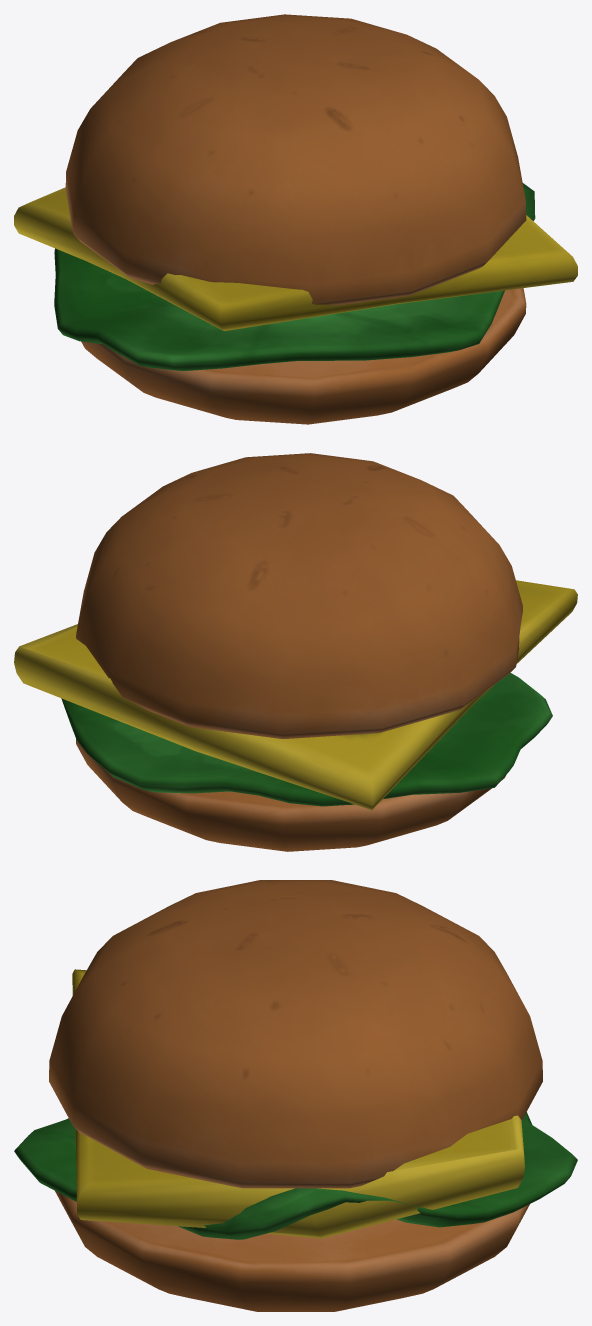
The model's file is MSH_Hamburguesa_P_L_Q.fbx.
3 views of the same model, one above another, from view 1: azimuth 30°, elevation 25°; view 2: azimuth 150°, elevation 25°; view 3: azimuth 270°, elevation 25° (orthographic). The views are drawn at different scales.
Visible parts, largest first — view 1: MSH_Hamburguesa_P_L_Q; view 2: MSH_Hamburguesa_P_L_Q; view 3: MSH_Hamburguesa_P_L_Q.
Boxes of the visible parts, x1,y1,x2,y2 form: MSH_Hamburguesa_P_L_Q: [14, 14, 577, 424]; MSH_Hamburguesa_P_L_Q: [14, 453, 577, 851]; MSH_Hamburguesa_P_L_Q: [14, 880, 577, 1311].
Bounding box in the file's own units: 10.53 × 10.93 × 6.94.
Materials: 1 (1 with a texture image).
